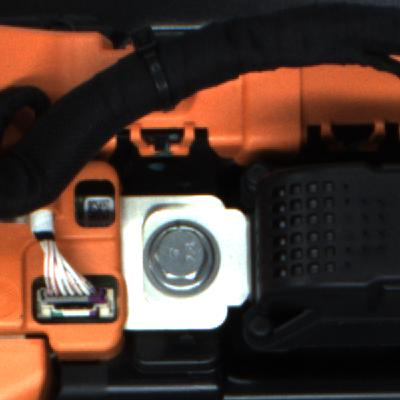nut_b: (134, 216, 248, 302)
